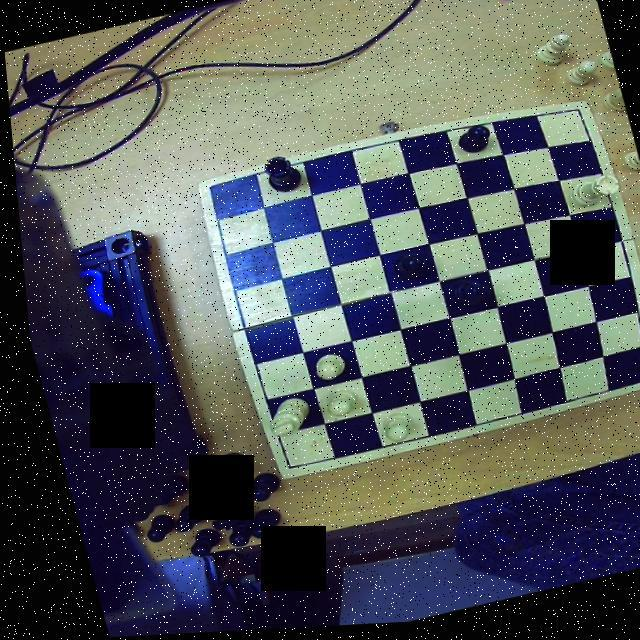chess-table-corners: (194, 180, 224, 206), (266, 455, 292, 481), (562, 108, 590, 132), (622, 375, 640, 396)
